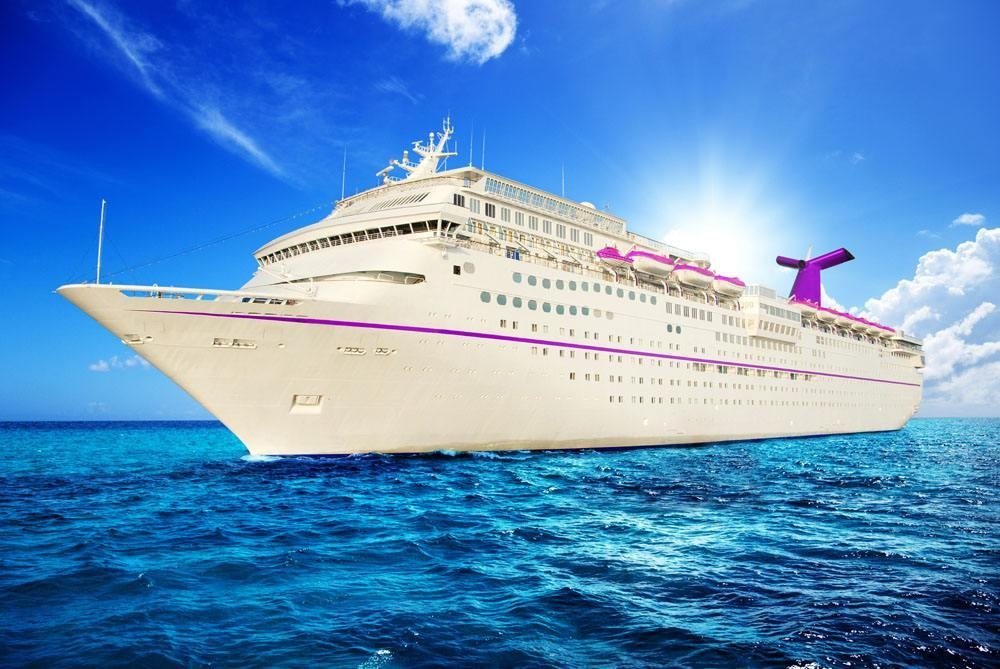youlun: (54, 120, 936, 460)
